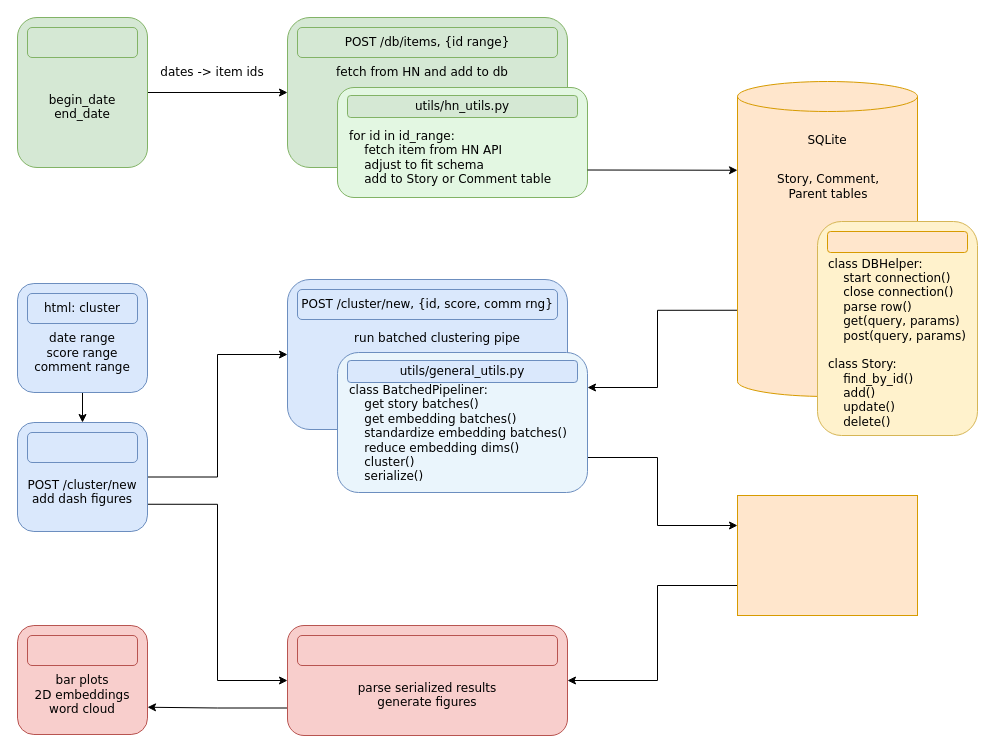
Image size: 995x753. Some labels were removed from this diagram. The centre of each missing label's shape, as x and y in pixels:
"db utils" goes at [897,241].
"GET /dashapp/..." goes at [427,650].
"html: figures" goes at [82,650].
"html: seed db" goes at [82,42].
"js: cluster utils" goes at [82,447].
"serialized clustering results" goes at [827,555].
